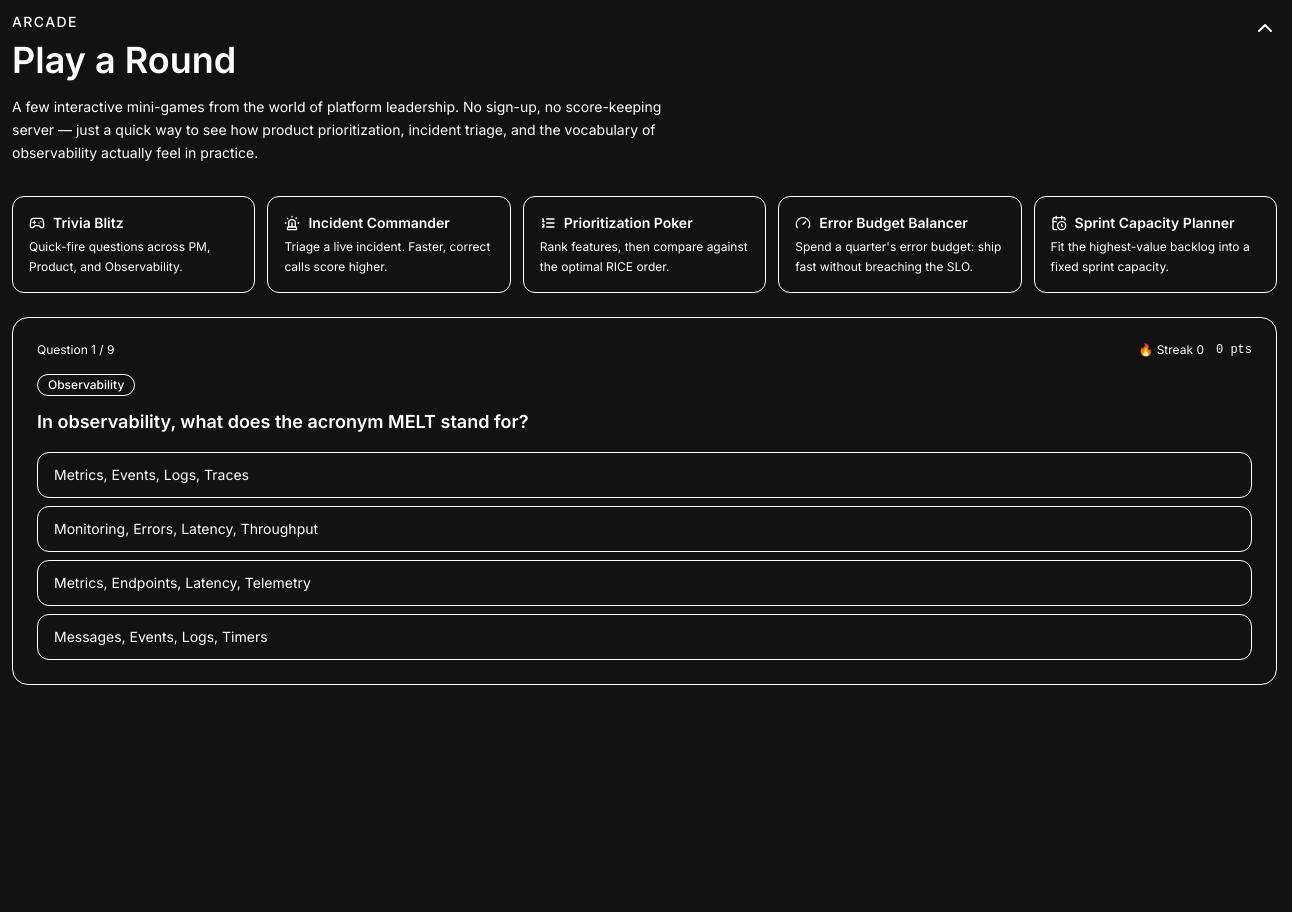
Test: Arcade › Trivia Blitz scores a correct answer and shows the explanation
Note: Click the correct option for the first question.
Click the button "Metrics, Events, Logs, Traces": (151, 475) [37, 452, 1252, 498]
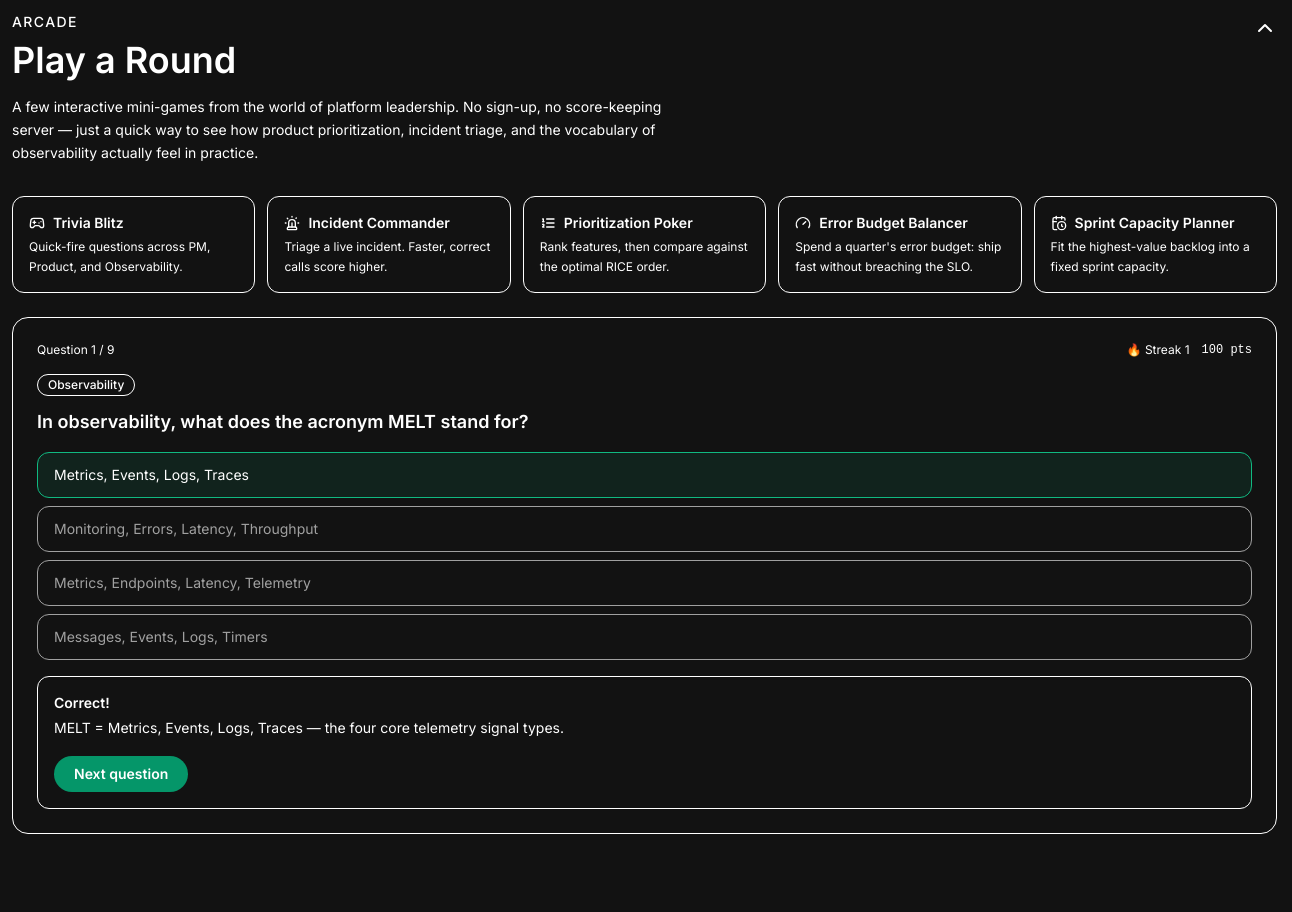
Now the text "MELT = Metrics, Events, Logs, Traces — the four core telemetry signal types." is shown, box [54, 719, 564, 736]
Now the text "Correct!" is shown, box [54, 694, 110, 711]
Now the text "100 pts" is shown, box [1202, 342, 1252, 358]
